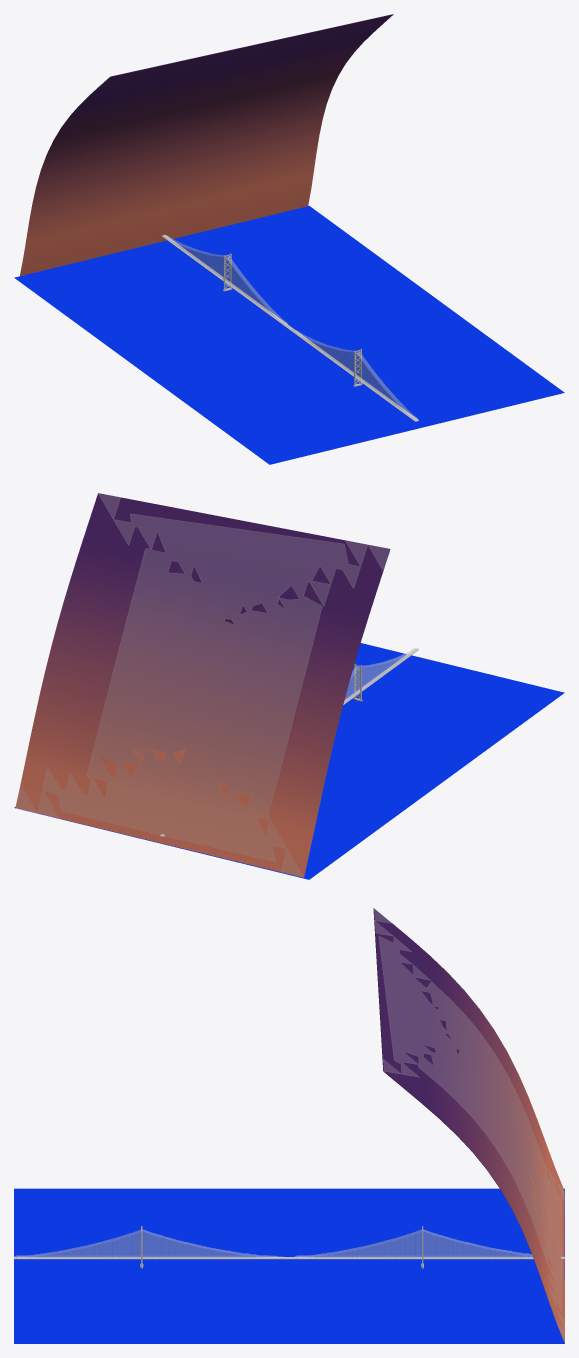
The model's file is asset.glb.
3 renders of one model, top to bottom at view 1: azimuth 30°, elevation 25°; view 2: azimuth 150°, elevation 25°; view 3: azimuth 270°, elevation 25°, orthographic. The views are drawn at different scales.
Parts seen in each view (by area): view 1: umi, 曲面, turibasi, michi; view 2: 曲面, umi, turibasi; view 3: umi, 曲面, turibasi, michi.
Boxes of the visible parts, x1,y1,x2,y2 form: umi: (14,206,564,464); 曲面: (20,14,393,275); turibasi: (163,234,417,420); michi: (162,235,418,421); 曲面: (15,493,390,877); umi: (14,643,564,879); turibasi: (161,647,417,835); umi: (14,1188,564,1343); 曲面: (373,908,564,1342); turibasi: (14,1229,564,1258); michi: (14,1257,564,1259).
Bounding box in the file's own units: 0.2 × 0.171 × 0.3.
Materials: 4 (2 with a texture image).
